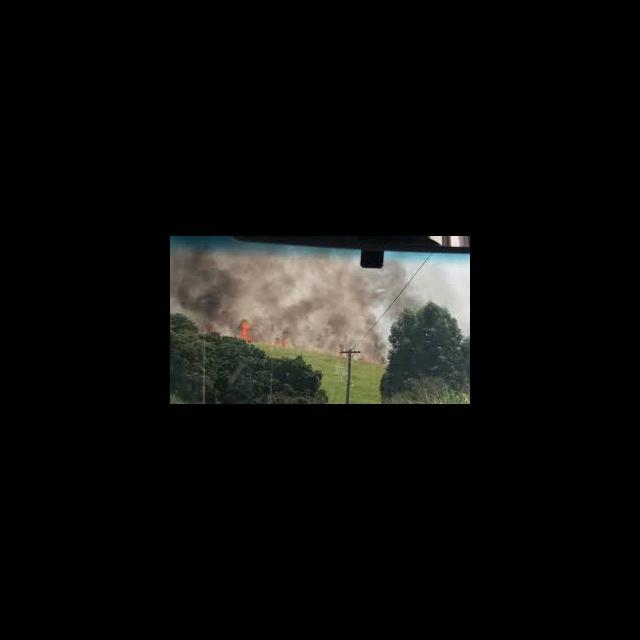Fire: (238, 318, 256, 342)
Smoke: (174, 247, 410, 363)
